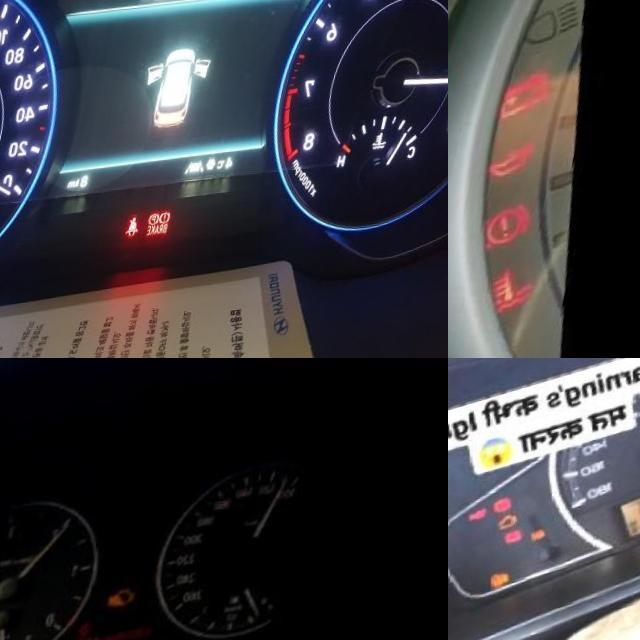Engine cooling system: (508, 263, 571, 327)
